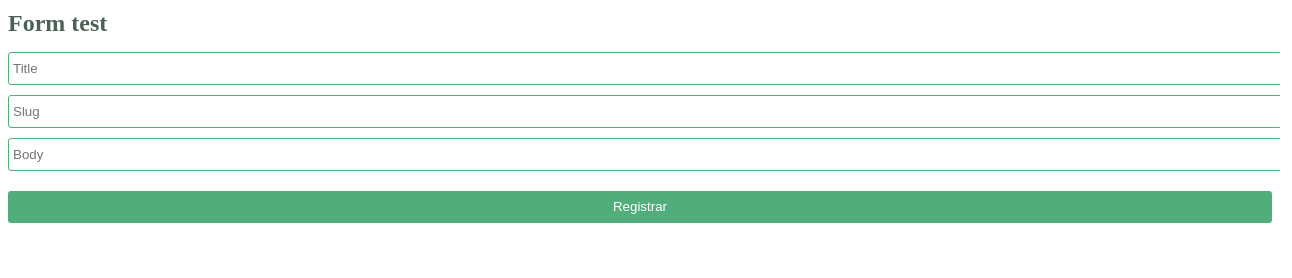
Test: FormCrearProducto test › should fail on submit two fields missing
Step 1. Type "Lorem" into the field named "title" → (644, 68), box [8,52,1280,85]
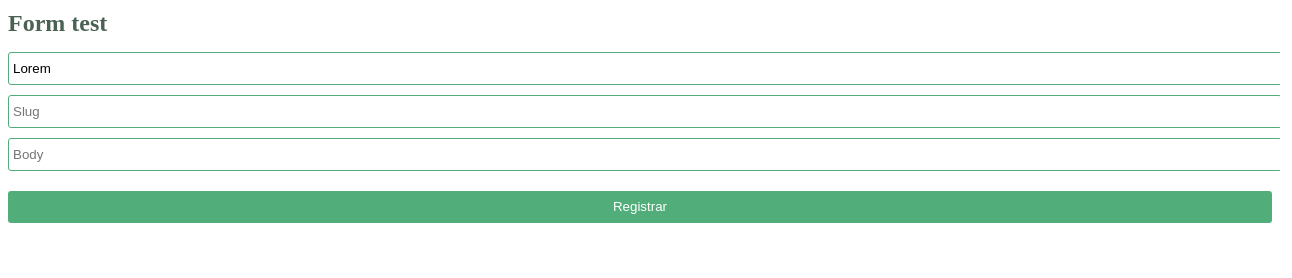
Step 2. Click the submit button → (640, 207), box [8,191,1272,223]
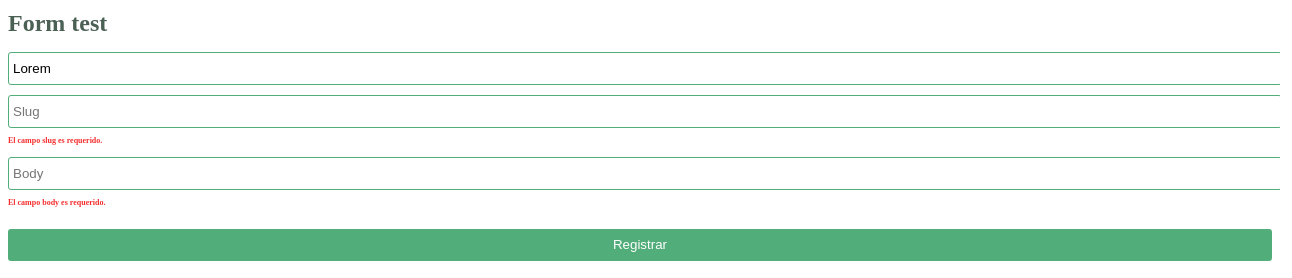
Now the text "El campo slug es requerido." is shown, box [8,136,102,145]
Now the text "El campo body es requerido." is shown, box [8,198,105,207]
